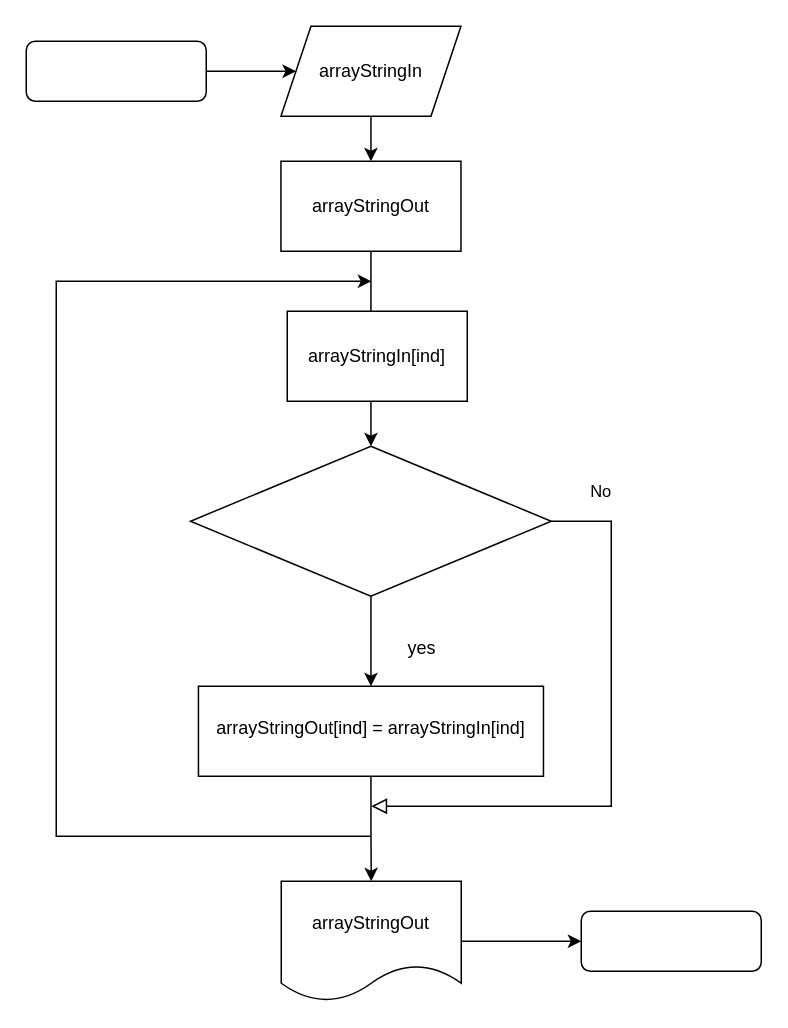
Some shapes in this 788 by 1028 pixel diagram are drawn without their labels. The centre of each missing label's shape, as x and y in pixels:
"arrayStringIn[ind].Length <=3" goes at [370,520].
"End" goes at [670,940].
"Start" goes at [115,70].
